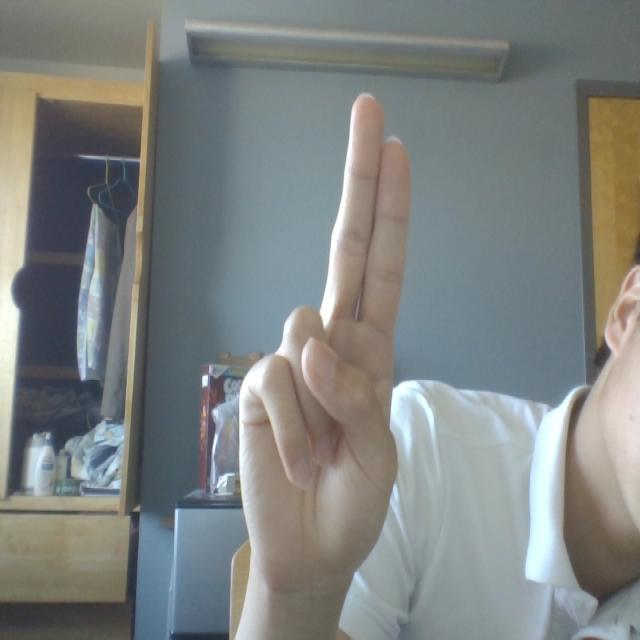U: (203, 74, 431, 637)
